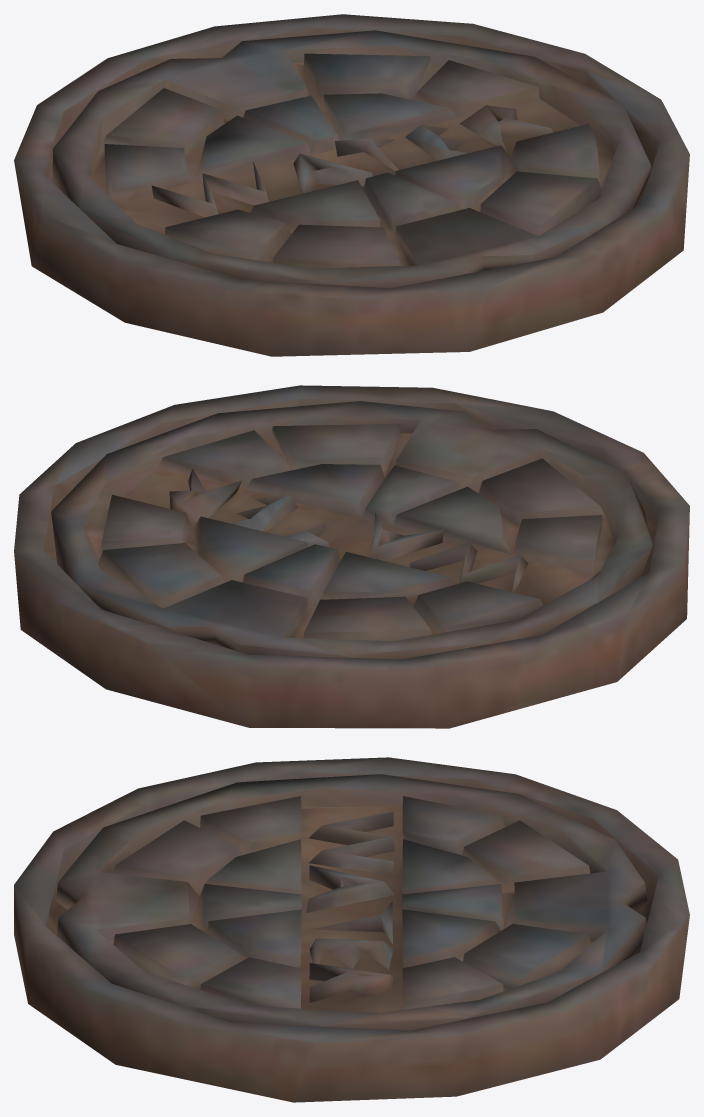
The model's file is valve.glb.
3 renders of one model, top to bottom at view 1: azimuth 30°, elevation 25°; view 2: azimuth 150°, elevation 25°; view 3: azimuth 270°, elevation 25°, orthographic.
Visible parts, largest first — view 1: water_manhole_cover_frame_w; view 2: water_manhole_cover_frame_w; view 3: water_manhole_cover_frame_w.
Part boxes in pixels (x1,y1,x2,y2): water_manhole_cover_frame_w: (14,14,689,356); water_manhole_cover_frame_w: (14,385,689,728); water_manhole_cover_frame_w: (14,757,689,1102).
Size of the model in its own units: 0.3031 by 0.0299 by 0.3032.
1 material, 1 textured.
